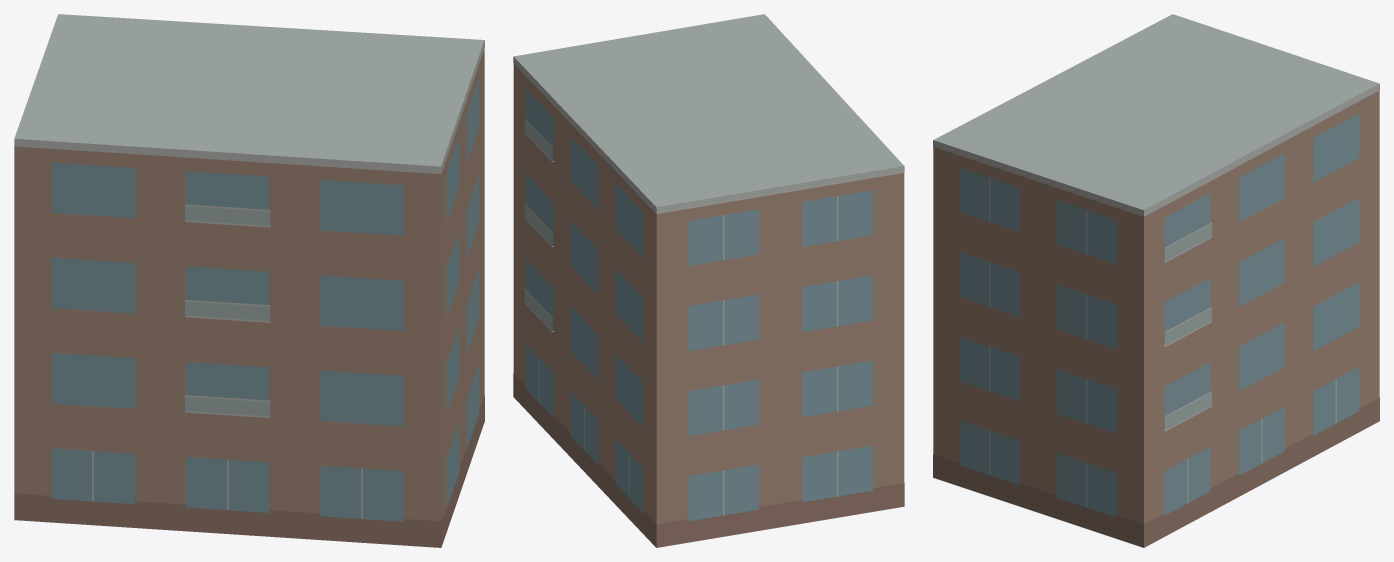
File: survey-upis-32799605.glb
The picture shows the model from 3 angles, left to right: view 1: azimuth 30°, elevation 25°; view 2: azimuth 150°, elevation 25°; view 3: azimuth 270°, elevation 25°; orthographic projection. The views are drawn at different scales.
Parts seen in each view (by area): view 1: survey-upis-32799605.tmp; view 2: survey-upis-32799605.tmp; view 3: survey-upis-32799605.tmp.
Boxes of the visible parts, <box> form: survey-upis-32799605.tmp: <box>14,14,484,547</box>; survey-upis-32799605.tmp: <box>513,14,904,547</box>; survey-upis-32799605.tmp: <box>933,14,1379,547</box>.
Bounding box in the file's own units: 15.29 × 12.26 × 14.71.
